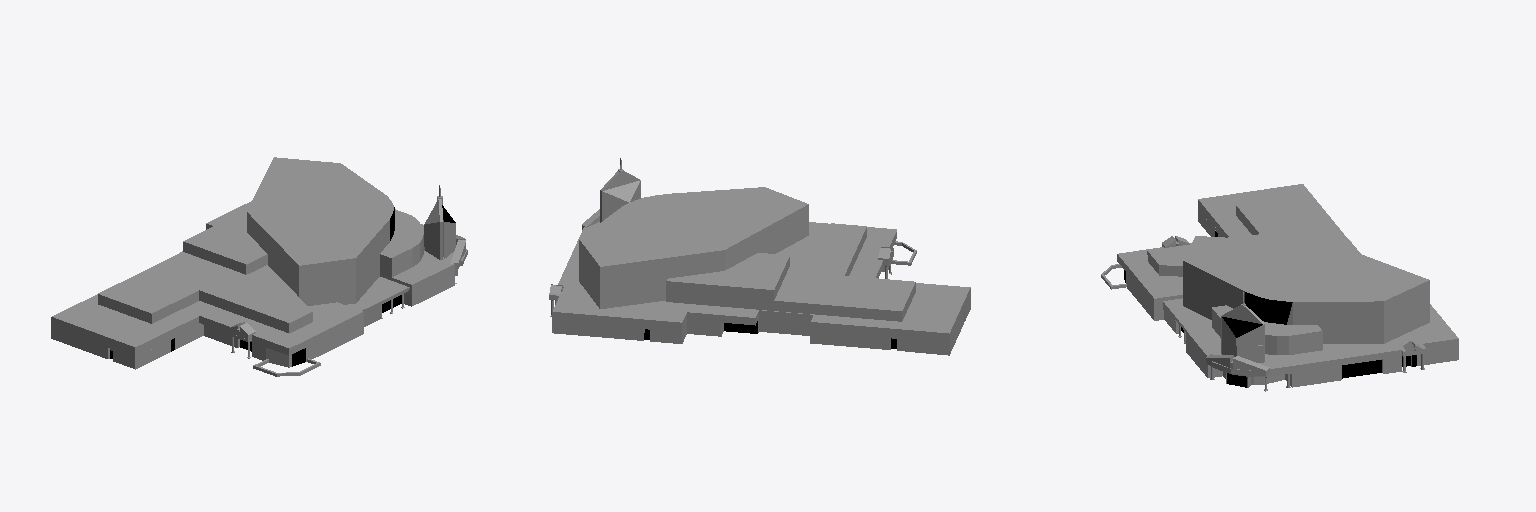
3 renders of one model, left to right at view 1: azimuth 30°, elevation 25°; view 2: azimuth 150°, elevation 25°; view 3: azimuth 270°, elevation 25°, orthographic.
Parts seen in each view (by area): view 1: No_Name; view 2: No_Name; view 3: No_Name.
Part boxes in pixels (bbox=[...]): No_Name: bbox=[51, 157, 467, 376]; No_Name: bbox=[549, 158, 970, 355]; No_Name: bbox=[1101, 184, 1458, 391].
Size of the model in its own units: 52 by 11.4 by 41.73.
3 materials, 1 textured.